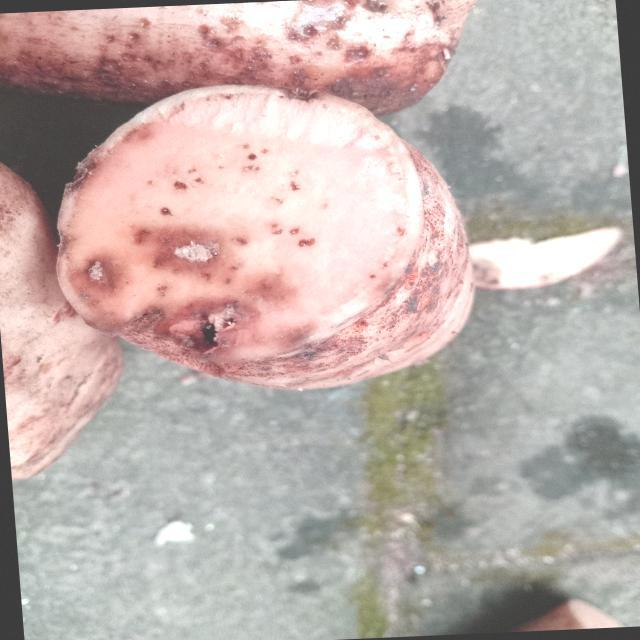Sick Sweet Potato_Tuber Rot: (58, 85, 423, 362)
